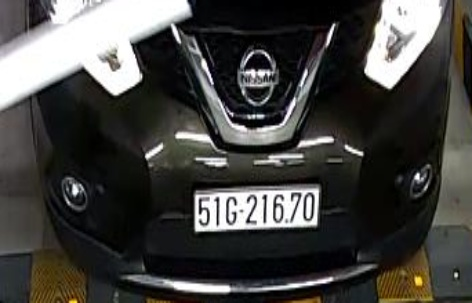plate: (190, 185, 321, 240)
